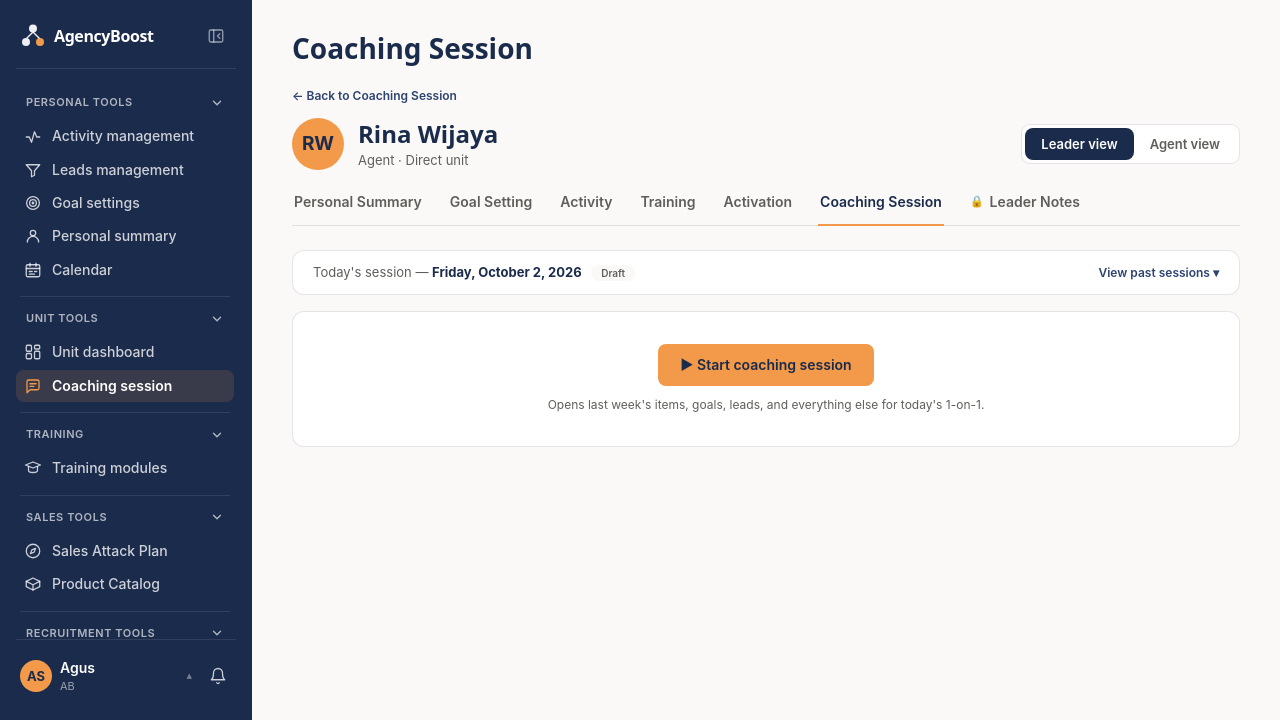
Test: the session workspace (P11-T8) › the header and the start › P11-T8 AC-1 says so when there is no past session yet
Click the button "View past sessions ▾" at (1159, 273), box [1098,264,1219,281]
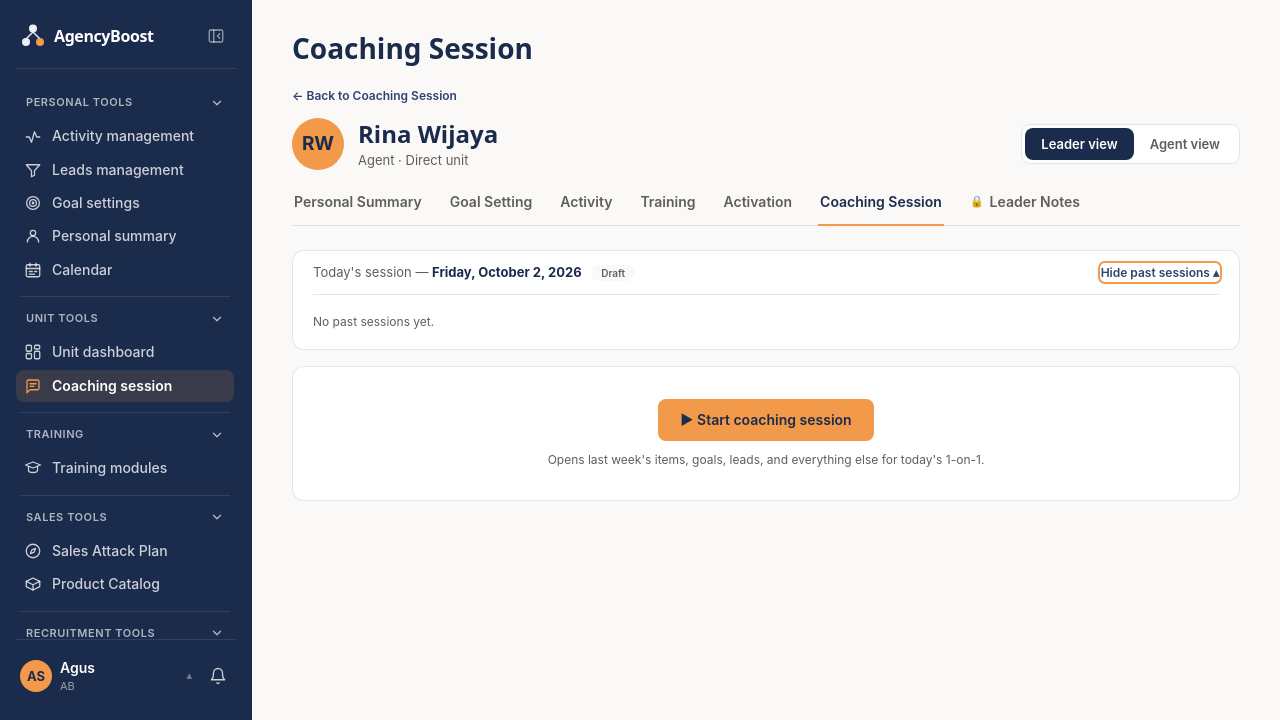
expect the text "No past sessions yet." is shown: met, box [313,314,434,329]
